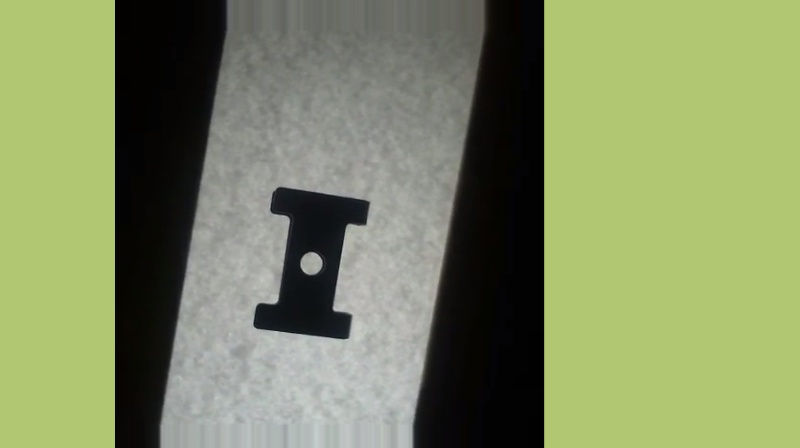O002: (251, 184, 370, 342)
